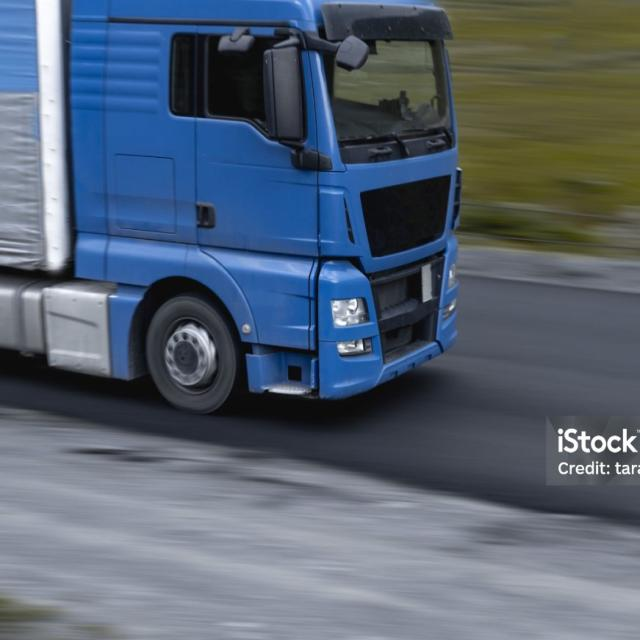truck: (0, 0, 462, 415)
